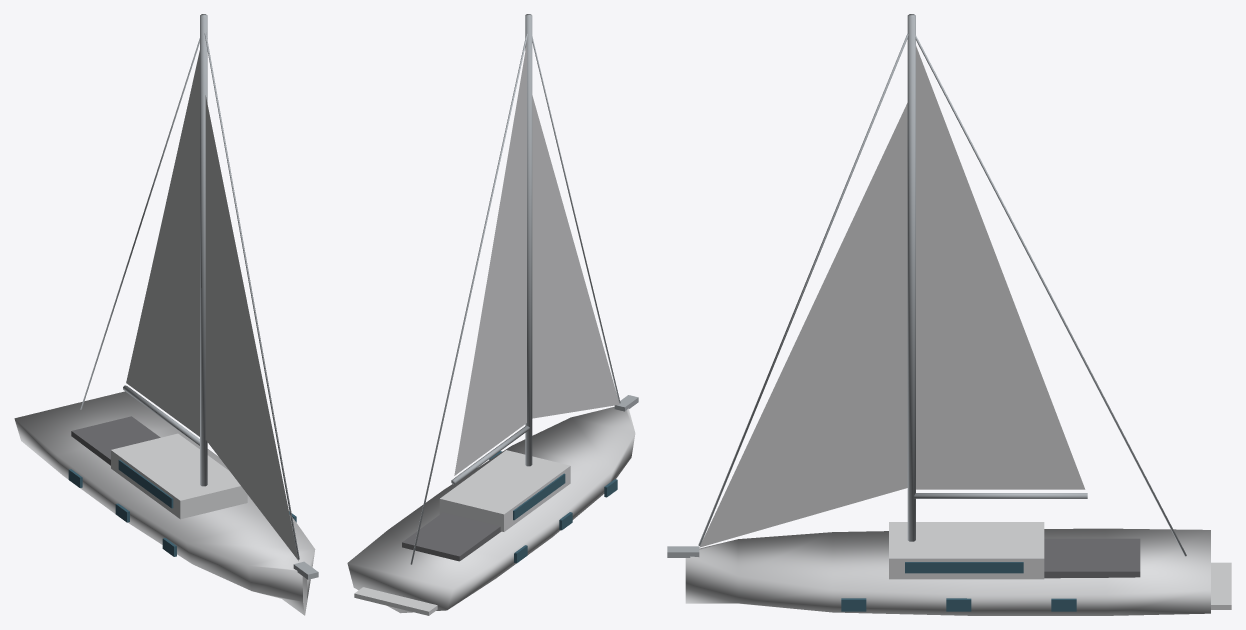
File: yacht_sail.glb
3 renders of one model, left to right at view 1: azimuth 30°, elevation 25°; view 2: azimuth 150°, elevation 25°; view 3: azimuth 270°, elevation 25°, orthographic. The views are drawn at different scales.
Visible parts, largest first — view 1: Merged_CityWhitePaint, Merged_PropsMetal, ys_cockpit, Merged_WindowGlassDark; view 2: Merged_CityWhitePaint, Merged_PropsMetal, ys_cockpit, Merged_WindowGlassDark; view 3: Merged_CityWhitePaint, Merged_PropsMetal, ys_cockpit, Merged_WindowGlassDark.
Boxes of the visible parts, x1,y1,x2,y2 form: Merged_CityWhitePaint: (14, 50, 315, 615); Merged_PropsMetal: (80, 14, 318, 579); ys_cockpit: (71, 416, 160, 465); Merged_WindowGlassDark: (68, 459, 296, 556); Merged_CityWhitePaint: (347, 43, 635, 615); Merged_PropsMetal: (410, 14, 638, 564); ys_cockpit: (402, 512, 501, 561); Merged_WindowGlassDark: (489, 451, 617, 563); Merged_CityWhitePaint: (685, 46, 1231, 615); Merged_PropsMetal: (667, 14, 1186, 557); ys_cockpit: (1044, 538, 1140, 578); Merged_WindowGlassDark: (841, 562, 1076, 611).
Size of the model in its own units: 3.46 by 14.2 by 12.35.
